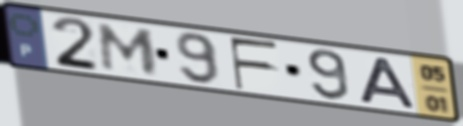2: (49, 16, 100, 74)
9: (173, 31, 223, 87), (305, 48, 351, 102)
A: (358, 55, 420, 111)
F: (227, 36, 281, 92)
M: (97, 21, 160, 77)
